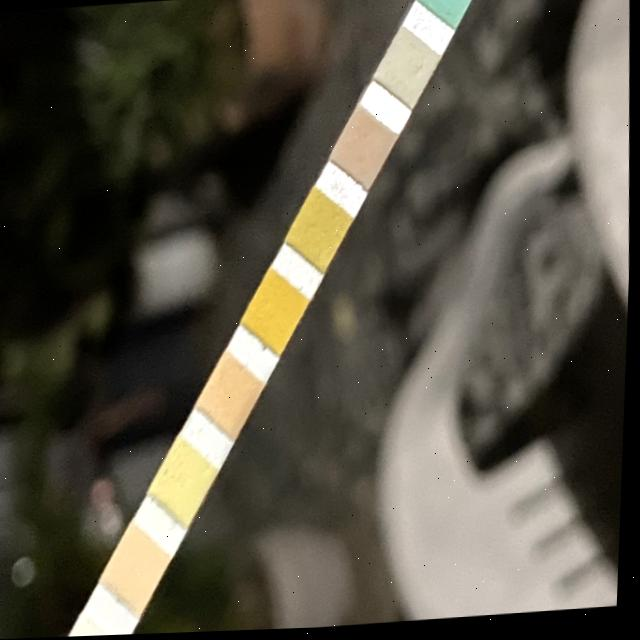Bilirubin: (389, 43, 425, 96)
Blood: (262, 283, 297, 340)
Glucose: (433, 0, 467, 13)
Ketone: (348, 121, 382, 174)
Nitrite: (76, 632, 106, 637)
Protein: (171, 451, 207, 507)
SpGravity: (305, 203, 338, 259)
Urobilinogen: (120, 539, 158, 597)
pH: (219, 364, 249, 426)
